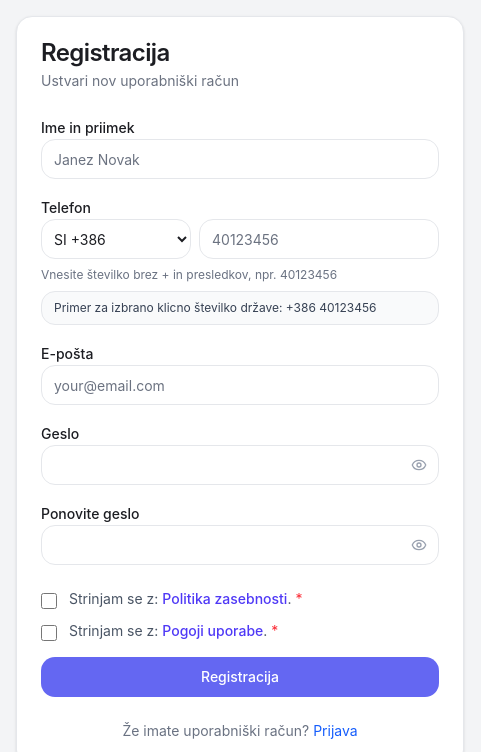
Test: Slovenian registration › lets a Slovenian-language user choose a different phone country
Select "GB +44" in the dropdown named "Klicna številka države": (116, 239) [41,219,191,259]
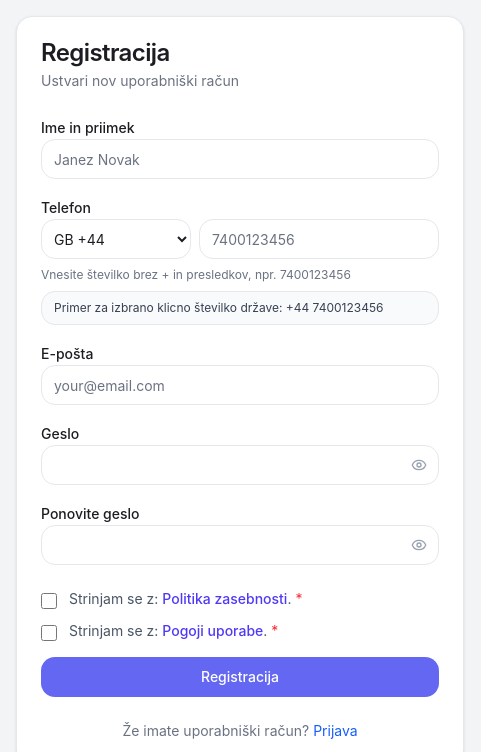
Expected: the heading "Registracija" is shown, [41,38,170,67]
Now the text "Primer za izbrano klicno številko države: +44 7400123456" is shown, box [41,291,439,325]
